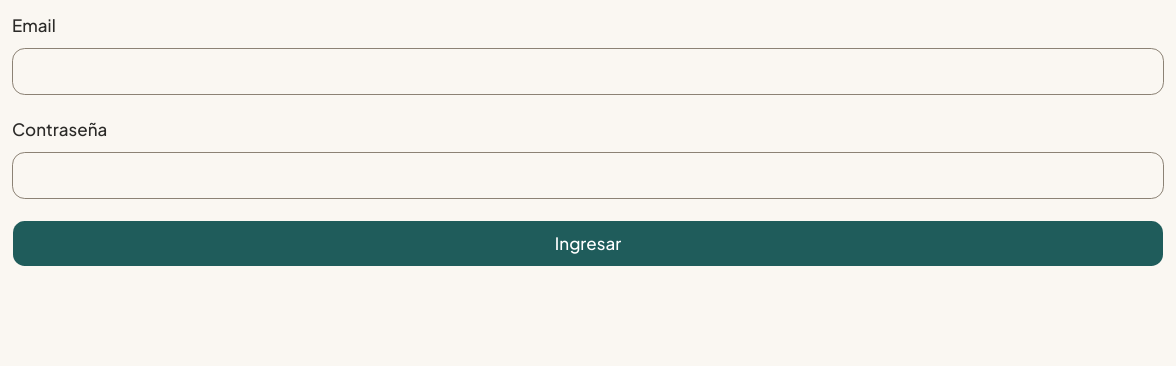
it: LoginForm › announces the generic error, focuses it and keeps the email, not the password
The image size is (1176, 366).
Type "staff@example.com" into the field labelled "Email" at x=588, y=72, box 12,48 -> 1164,95
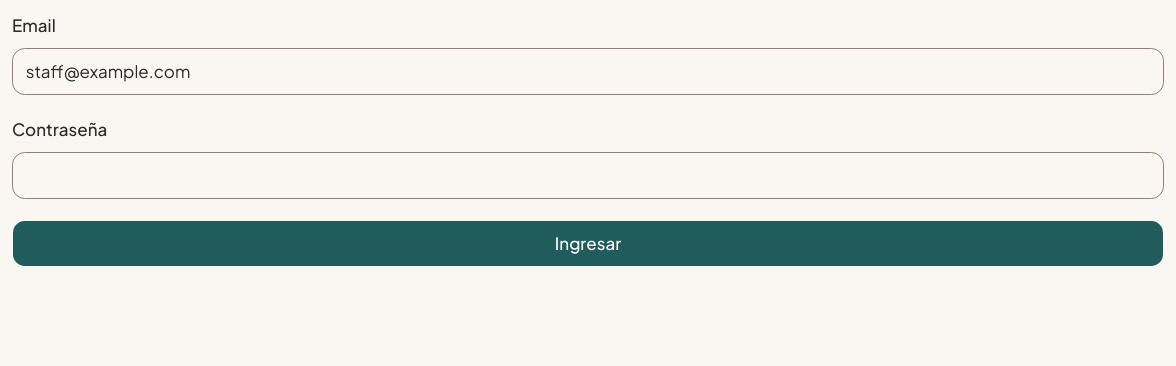
Type "incorrecta" into the password field labelled "Contraseña" at x=588, y=176, box 12,152 -> 1164,199
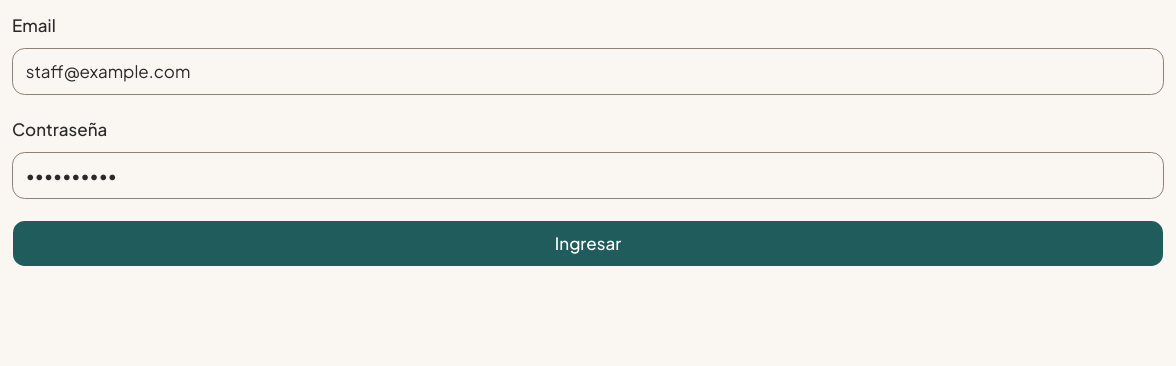
Click the button "Ingresar" at x=588, y=244, box 12,220 -> 1164,267
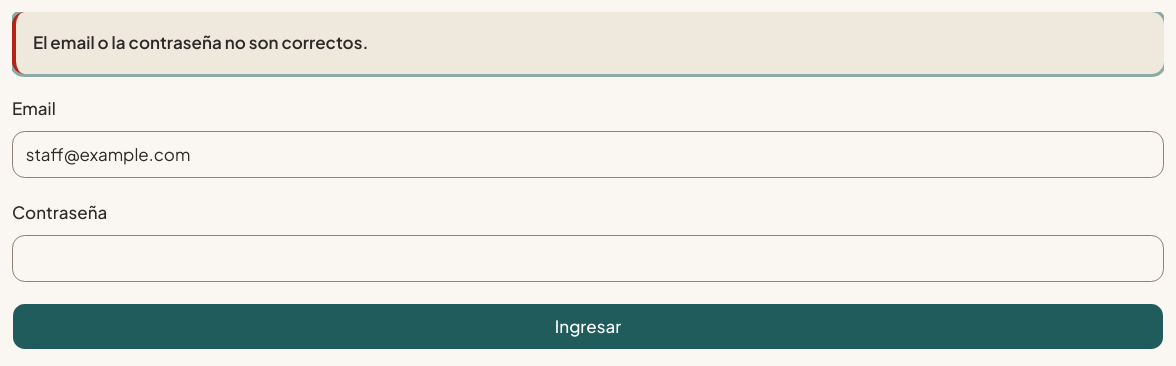
Now the message reads "El email o la contraseña no son correctos.", box 33,31 -> 368,53
Now the password field labelled "Contraseña" is empty, box 12,235 -> 1164,282
